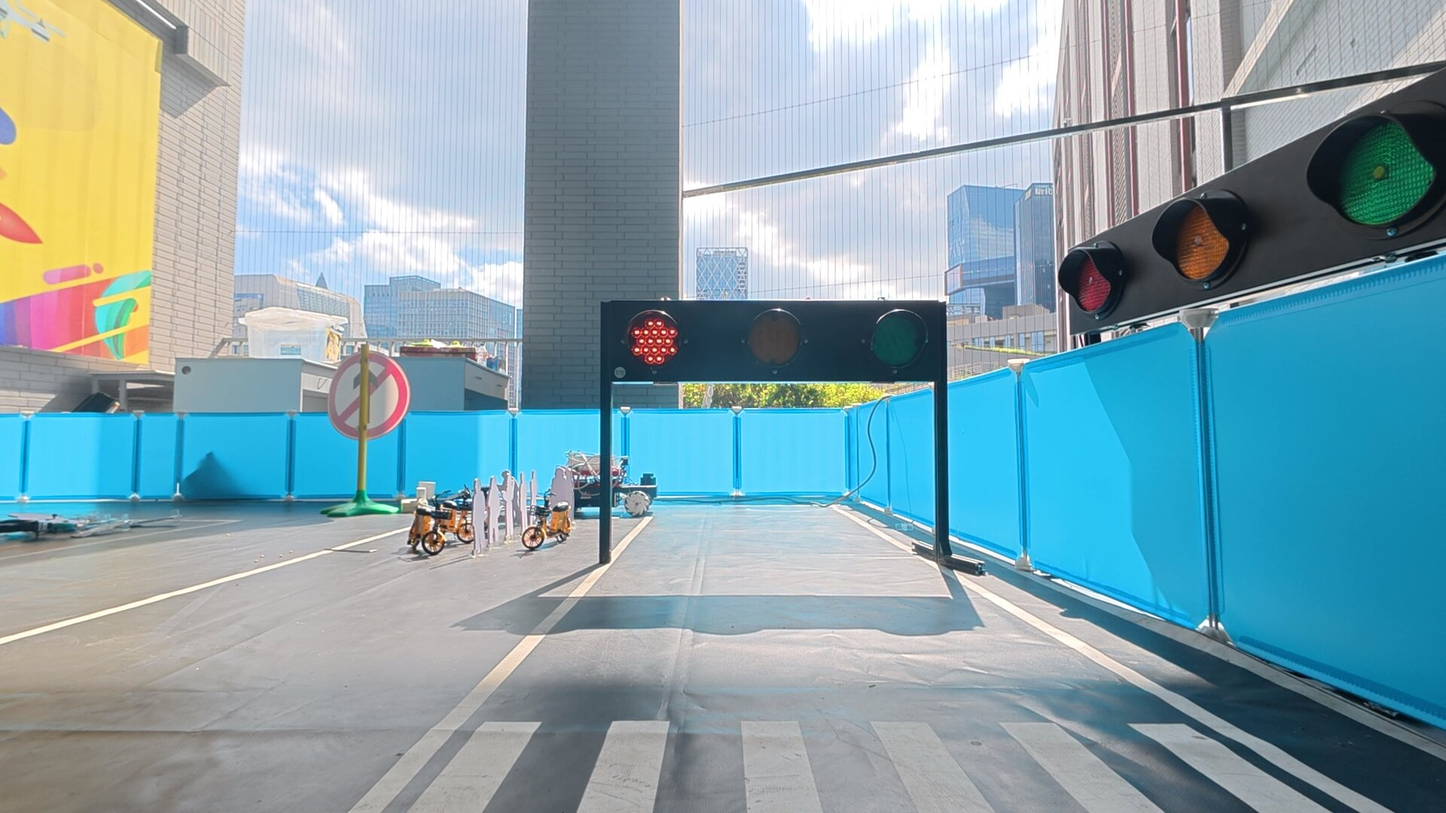stop: (626, 309, 684, 372)
